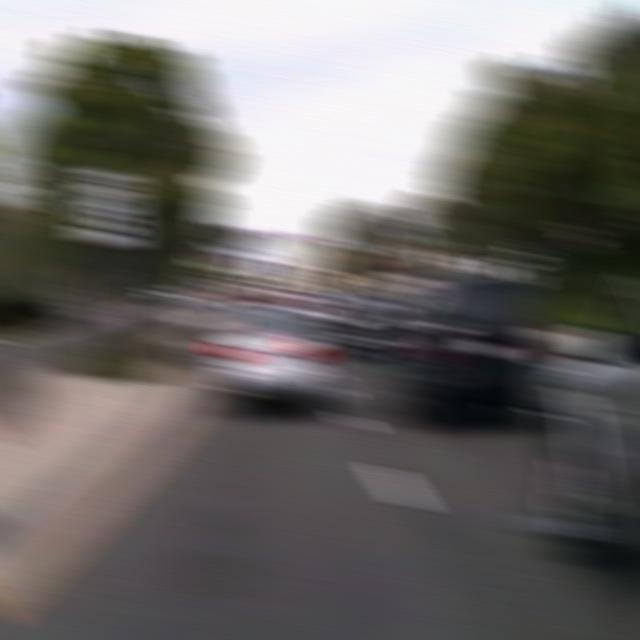speedLimit45: (74, 165, 138, 247)
